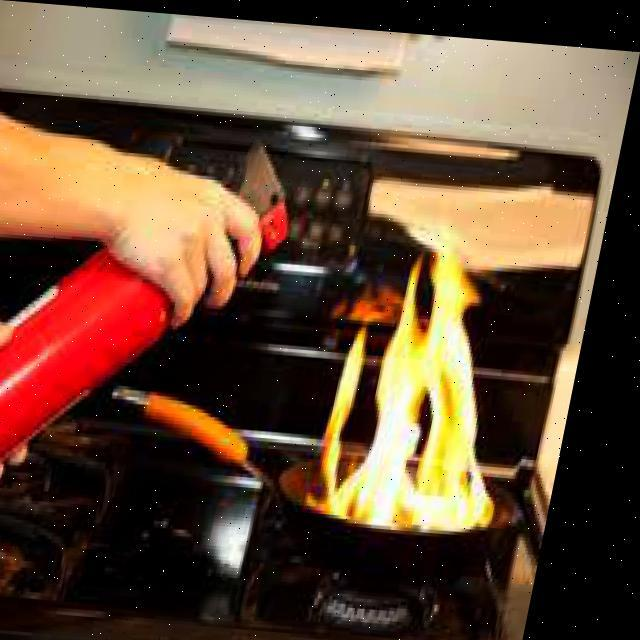Fire: (314, 242, 569, 522)
